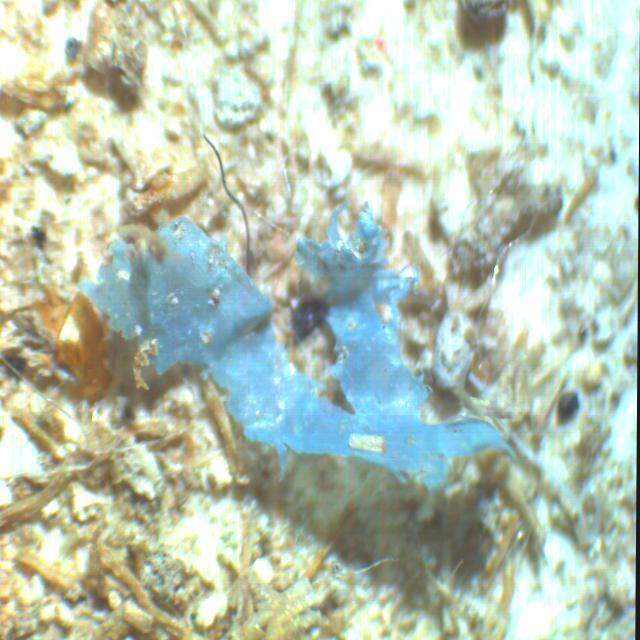microplastic: (78, 199, 522, 494)
